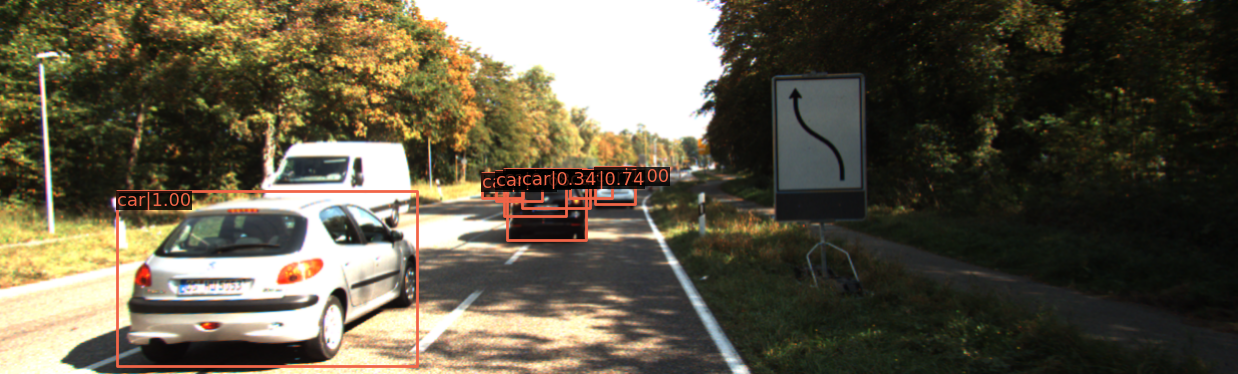car: (126, 188, 425, 366), (509, 169, 587, 240), (502, 168, 562, 218), (596, 169, 634, 206)
